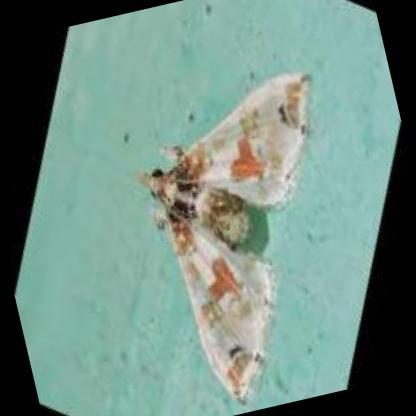leucinodes: (139, 74, 314, 403)
